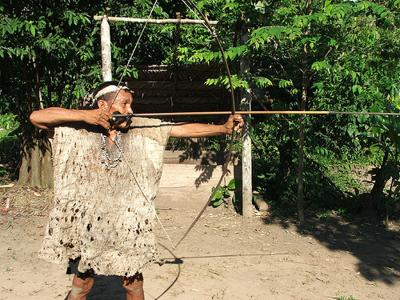person: (30, 82, 246, 298)
